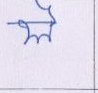o_matra: (42, 0, 58, 42)
